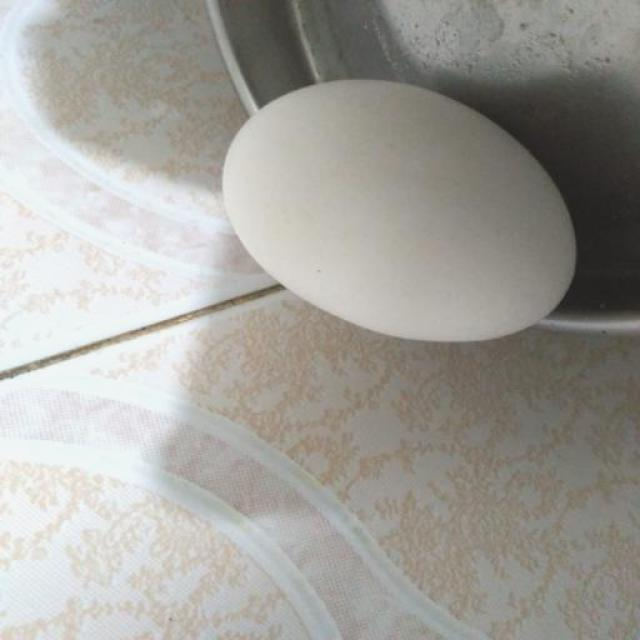telur: (222, 79, 578, 342)
